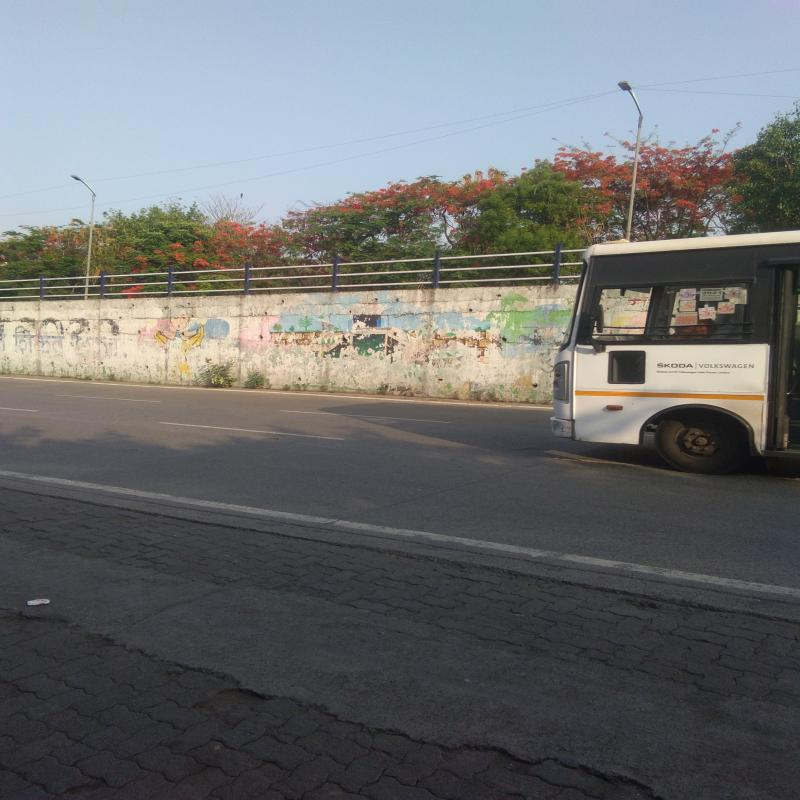bus: (557, 247, 800, 463)
